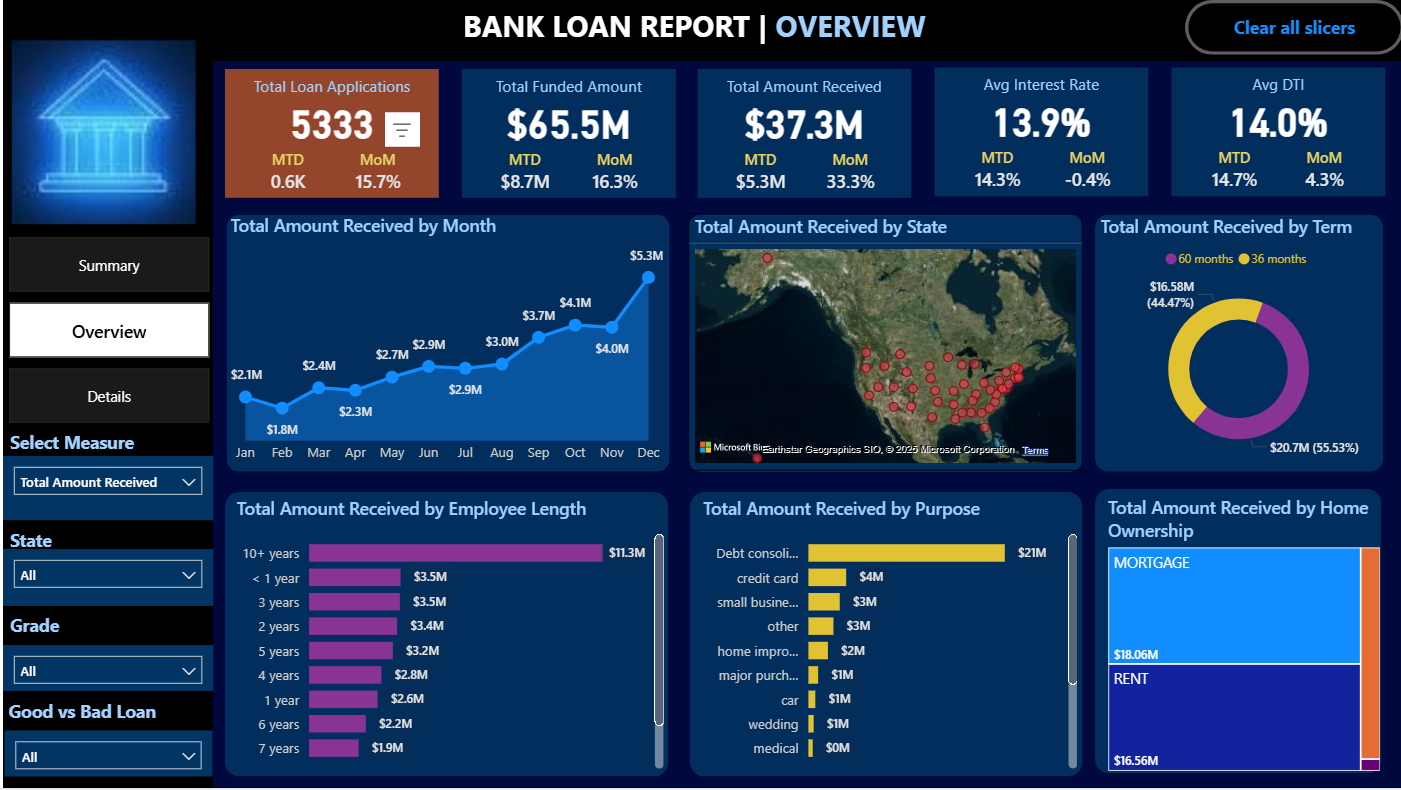

The page's visual inventory and layout, read from the dashboard file:
{"tool":"powerbi","page":{"name":"Overview","canvas":[1280,720],"ordinal":1},"visuals":[{"type":"shape","box":[0,55,191.7,665],"z":0},{"type":"shape","box":[0,0,1278.9,55.7],"z":1000},{"type":"textbox","box":[415.1,0,447,62],"z":2000},{"type":"shape","box":[851,62,195.6,117.7],"z":3000,"group":"g4"},{"type":"shape","box":[1067.3,62,195.6,117.7],"z":3000,"group":"g5"},{"type":"group","id":"g1","title":"Group 1","box":[203.3,63.3,196.7,118.3],"z":3000},{"type":"shape","box":[203.3,63.3,195.6,117.7],"z":3000,"group":"g1"},{"type":"shape","box":[419,63.3,195.6,117.7],"z":3000,"group":"g2"},{"type":"shape","box":[634.7,63.6,195.6,117.7],"z":3000,"group":"g3"},{"type":"group","id":"g2","title":"Group 1","box":[419,63.3,196.7,118.3],"z":4000},{"type":"card","fields":{"Values":["bank_loan_data.Avg Interest Rate"]},"box":[851,84.3,194.1,50.9],"z":4000,"group":"g4"},{"type":"card","fields":{"Values":["bank_loan_data.Avg Dti"]},"box":[1067.3,84.3,194.1,50.9],"z":4000,"group":"g5"},{"type":"card","fields":{"Values":["bank_loan_data.Total Loan Applications"]},"box":[203.3,85.6,194.1,50.9],"z":4000,"group":"g1"},{"type":"card","fields":{"Values":["bank_loan_data.Total Funded Amount"]},"box":[419,85.6,194.1,50.9],"z":4000,"group":"g2"},{"type":"card","fields":{"Values":["bank_loan_data.Total Amount Received"]},"box":[634.7,85.9,194.1,50.9],"z":4000,"group":"g3"},{"type":"textbox","box":[851,62,195.6,33.4],"z":5000,"group":"g4"},{"type":"textbox","box":[1067.3,62,195.6,33.4],"z":5000,"group":"g5"},{"type":"textbox","box":[203.3,63.3,195.6,33.4],"z":5000,"group":"g1"},{"type":"textbox","box":[419,63.3,195.6,33.4],"z":5000,"group":"g2"},{"type":"textbox","box":[634.7,63.6,195.6,33.4],"z":5000,"group":"g3"},{"type":"shape","box":[203.6,195.6,405,235],"z":5000},{"type":"group","id":"g3","title":"Group 1","box":[634.7,63.6,197.2,117.7],"z":6000},{"type":"card","title":"MTD","fields":{"Values":["bank_loan_data.MTD Avg Interest Rate"]},"box":[867.4,135,81.7,45],"z":6000,"group":"g4"},{"type":"card","title":"MTD","fields":{"Values":["bank_loan_data.MTD Avg DTI"]},"box":[1083.7,135,81.7,45],"z":6000,"group":"g5"},{"type":"card","title":"MTD","fields":{"Values":["bank_loan_data.MTD Loan Applications"]},"box":[219.7,136.3,81.7,45],"z":6000,"group":"g1"},{"type":"card","title":"MTD","fields":{"Values":["bank_loan_data.MTD Funded Amount"]},"box":[435.4,136.3,81.7,45],"z":6000,"group":"g2"},{"type":"card","title":"MTD","fields":{"Values":["bank_loan_data.MTD Total Amount Received"]},"box":[651.1,136.6,81.7,45],"z":6000,"group":"g3"},{"type":"group","id":"g4","title":"Group 1","box":[851,62,197.2,117.7],"z":7000},{"type":"card","title":"MoM","fields":{"Values":["bank_loan_data.MoM Avg Interest Rate"]},"box":[949.1,135,81.7,45],"z":7000,"group":"g4"},{"type":"card","title":"MoM","fields":{"Values":["bank_loan_data.MoM Avg DTI"]},"box":[1165.4,135,81.7,45],"z":7000,"group":"g5"},{"type":"card","title":"MoM","fields":{"Values":["bank_loan_data.MoM Loan Application"]},"box":[301.4,136.3,81.7,45],"z":7000,"group":"g1"},{"type":"card","title":"MoM","fields":{"Values":["bank_loan_data.MoM Total Funded Amount"]},"box":[517.1,136.3,81.7,45],"z":7000,"group":"g2"},{"type":"card","title":"MoM","fields":{"Values":["bank_loan_data.MoM Total Amount Received"]},"box":[732.8,136.6,81.7,45],"z":7000,"group":"g3"},{"type":"group","id":"g5","title":"Group 1","box":[1067.3,62,197.2,117.7],"z":8000},{"type":"group","id":"g6","title":"Group 3","box":[0,633.3,191.7,76.1],"z":9000},{"type":"group","id":"g7","title":"Group 4","box":[0,555.4,191.7,76.1],"z":10000},{"type":"group","id":"g8","title":"Group 5","box":[0,476.9,191.7,76.7],"z":11000},{"type":"areaChart","fields":{"Y":["bank_loan_data.Total Amount Received"],"Category":["Date Table.Month"]},"box":[203.3,195,405,236.7],"z":12000},{"type":"shape","box":[626.7,195.6,360,235.4],"z":13000},{"type":"slicer","fields":{"Values":["Select Measure.Select Measure"]},"box":[0,416.6,191.7,58.3],"z":13000,"group":"g9"},{"type":"map","fields":{"Category":["bank_loan_data.address_state"]},"box":[626.7,195,360,235],"z":14000},{"type":"textbox","box":[1.7,388.3,160,35],"z":14000,"group":"g9"},{"type":"shape","box":[998.3,196.7,263.3,235],"z":15000},{"type":"slicer","fields":{"Values":["bank_loan_data.address_state"]},"box":[0,501.9,191.7,51.7],"z":15000,"group":"g8"},{"type":"donutChart","fields":{"Y":["bank_loan_data.Total Amount Received"],"Category":["bank_loan_data.term"]},"box":[998.3,196.7,261.7,233.3],"z":16000},{"type":"textbox","box":[1.1,476.9,122.3,35.2],"z":16000,"group":"g8"},{"type":"shape","box":[203.3,450,405,260],"z":17000},{"type":"slicer","fields":{"Values":["bank_loan_data.grade"]},"box":[0,589.8,191.7,41.7],"z":17000,"group":"g7"},{"type":"shape","box":[628.3,450,358.3,260],"z":18000},{"type":"slicer","fields":{"Values":["bank_loan_data.Good vs Bad Loan"]},"box":[1.7,667.7,190,41.7],"z":18000,"group":"g6"},{"type":"barChart","fields":{"Y":["bank_loan_data.Total Amount Received"],"Category":["bank_loan_data.emp_length"]},"box":[208.3,453.3,400,253.3],"z":19000},{"type":"textbox","box":[1.7,555.4,118.9,35.1],"z":19000,"group":"g7"},{"type":"shape","box":[998.3,446.7,261.7,260],"z":20000},{"type":"textbox","box":[0,633.3,179.7,35],"z":20000,"group":"g6"},{"type":"barChart","fields":{"Y":["bank_loan_data.Total Amount Received"],"Category":["bank_loan_data.purpose"]},"box":[635,453.3,351.7,253.3],"z":21000},{"type":"treemap","fields":{"Values":["bank_loan_data.Total Amount Received"],"Group":["bank_loan_data.home_ownership"]},"box":[1005,451.7,258.3,256.7],"z":22000},{"type":"image","box":[0,31.7,183.3,178.3],"z":23000},{"type":"pageNavigator","box":[5,216.7,183.3,171.7],"z":24000},{"type":"group","id":"g9","title":"Group 2","box":[0,388.3,191.7,86.7],"z":25000},{"type":"actionButton","box":[1080,0,200,50],"z":26000}]}

Visuals, with their boxes in screenshot pixels (x1, y1, x2, y2), scaled from the page's 1280x720 canvas onto the 1401x790 screenshot:
shape: bbox=(0, 60, 210, 789)
shape: bbox=(0, 0, 1400, 61)
textbox: bbox=(454, 0, 944, 68)
shape: bbox=(931, 68, 1146, 197)
shape: bbox=(1168, 68, 1382, 197)
"Group 1" group: bbox=(223, 69, 438, 199)
shape: bbox=(223, 69, 437, 199)
shape: bbox=(459, 69, 673, 199)
shape: bbox=(695, 70, 909, 199)
"Group 1" group: bbox=(459, 69, 674, 199)
card - bank_loan_data.Avg Interest Rate: bbox=(931, 92, 1144, 148)
card - bank_loan_data.Avg Dti: bbox=(1168, 92, 1381, 148)
card - bank_loan_data.Total Loan Applications: bbox=(223, 94, 435, 150)
card - bank_loan_data.Total Funded Amount: bbox=(459, 94, 671, 150)
card - bank_loan_data.Total Amount Received: bbox=(695, 94, 907, 150)
textbox: bbox=(931, 68, 1146, 105)
textbox: bbox=(1168, 68, 1382, 105)
textbox: bbox=(223, 69, 437, 106)
textbox: bbox=(459, 69, 673, 106)
textbox: bbox=(695, 70, 909, 106)
shape: bbox=(223, 215, 666, 472)
"Group 1" group: bbox=(695, 70, 911, 199)
"MTD" card: bbox=(949, 148, 1039, 198)
"MTD" card: bbox=(1186, 148, 1276, 198)
"MTD" card: bbox=(240, 150, 330, 199)
"MTD" card: bbox=(477, 150, 566, 199)
"MTD" card: bbox=(713, 150, 802, 199)
"Group 1" group: bbox=(931, 68, 1147, 197)
"MoM" card: bbox=(1039, 148, 1128, 198)
"MoM" card: bbox=(1276, 148, 1365, 198)
"MoM" card: bbox=(330, 150, 419, 199)
"MoM" card: bbox=(566, 150, 655, 199)
"MoM" card: bbox=(802, 150, 891, 199)
"Group 1" group: bbox=(1168, 68, 1384, 197)
"Group 3" group: bbox=(0, 695, 210, 778)
"Group 4" group: bbox=(0, 609, 210, 693)
"Group 5" group: bbox=(0, 523, 210, 607)
areaChart - bank_loan_data.Total Amount Received x Date Table.Month: bbox=(223, 214, 666, 474)
shape: bbox=(686, 215, 1080, 473)
slicer - Select Measure.Select Measure: bbox=(0, 457, 210, 521)
map - bank_loan_data.address_state: bbox=(686, 214, 1080, 472)
textbox: bbox=(2, 426, 177, 464)
shape: bbox=(1093, 216, 1381, 474)
slicer - bank_loan_data.address_state: bbox=(0, 551, 210, 607)
donutChart - bank_loan_data.Total Amount Received x bank_loan_data.term: bbox=(1093, 216, 1379, 472)
textbox: bbox=(1, 523, 135, 562)
shape: bbox=(223, 494, 666, 779)
slicer - bank_loan_data.grade: bbox=(0, 647, 210, 693)
shape: bbox=(688, 494, 1080, 779)
slicer - bank_loan_data.Good vs Bad Loan: bbox=(2, 733, 210, 778)
barChart - bank_loan_data.Total Amount Received x bank_loan_data.emp_length: bbox=(228, 497, 666, 775)
textbox: bbox=(2, 609, 132, 648)
shape: bbox=(1093, 490, 1379, 775)
textbox: bbox=(0, 695, 197, 733)
barChart - bank_loan_data.Total Amount Received x bank_loan_data.purpose: bbox=(695, 497, 1080, 775)
treemap - bank_loan_data.Total Amount Received x bank_loan_data.home_ownership: bbox=(1100, 496, 1383, 777)
image: bbox=(0, 35, 201, 230)
pageNavigator: bbox=(5, 238, 206, 426)
"Group 2" group: bbox=(0, 426, 210, 521)
actionButton: bbox=(1182, 0, 1400, 55)
